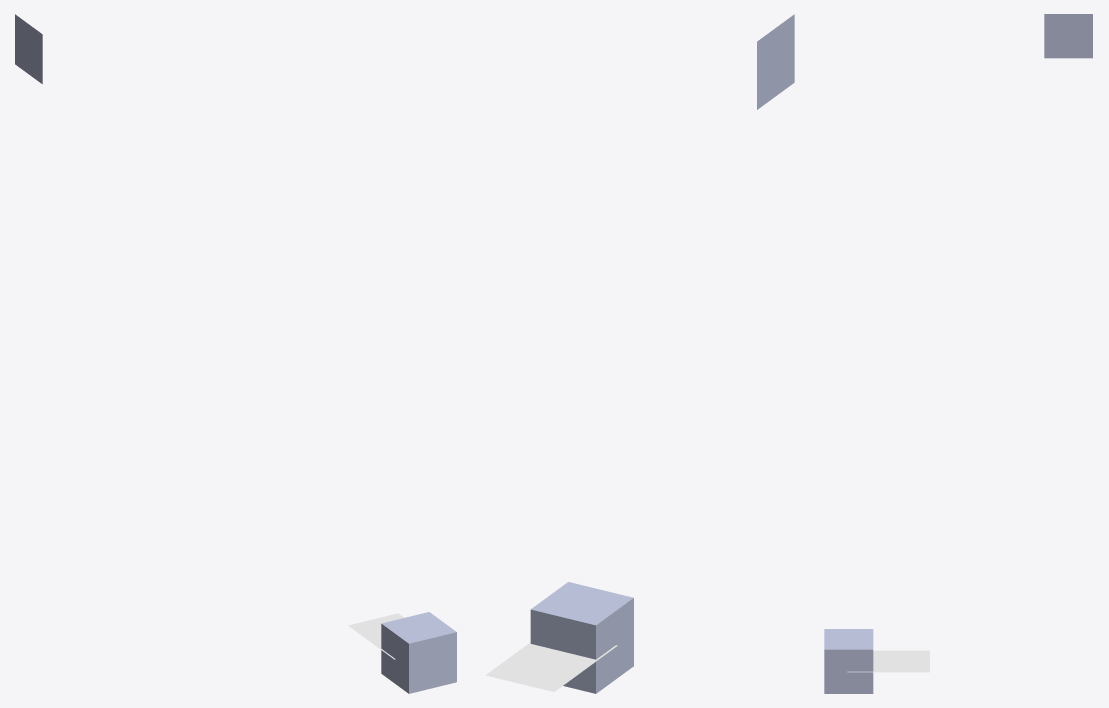
File: plantConnectionTriggers.fbx
3 views of the same model, side by side, from view 1: azimuth 30°, elevation 25°; view 2: azimuth 150°, elevation 25°; view 3: azimuth 270°, elevation 25° (orthographic). The views are drawn at different scales.
Visible parts, largest first — view 1: plantLight3, plantLight2, vfx_plane; view 2: plantLight3, vfx_plane, plantLight2; view 3: plantLight3, plantLight2, vfx_plane.
Part boxes in pixels (x1,y1,x2,y2): plantLight3: [381, 612, 456, 693]; plantLight2: [15, 14, 42, 84]; vfx_plane: [348, 613, 404, 659]; plantLight3: [530, 582, 633, 693]; vfx_plane: [485, 642, 617, 691]; plantLight2: [757, 14, 794, 109]; plantLight3: [824, 629, 873, 693]; plantLight2: [1044, 14, 1092, 58]; vfx_plane: [847, 650, 929, 672].
Bounding box in the file's own units: 6.07 × 12.51 × 5.52.
